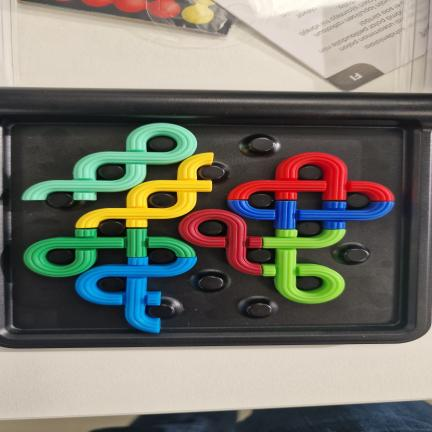A_Yellow: (76, 153, 213, 228)
B_SkyBlue: (76, 257, 197, 332)
C_DarkBlue: (228, 200, 394, 229)
D_Green: (24, 229, 195, 277)
E_Red: (228, 152, 394, 201)
F_Teal: (23, 124, 197, 200)
J_DarkRed: (179, 209, 262, 275)
K_YellowGreen: (262, 229, 345, 304)
board: (0, 90, 430, 348)
hinge: (0, 88, 432, 125)
pin: (146, 297, 183, 319), (148, 136, 176, 152), (97, 164, 125, 180), (47, 192, 74, 208), (47, 249, 74, 265), (296, 221, 322, 237), (198, 165, 225, 180), (98, 277, 125, 292), (149, 193, 175, 208), (99, 221, 125, 236), (150, 249, 176, 264), (198, 276, 224, 291), (249, 137, 274, 152), (198, 220, 223, 235), (344, 248, 369, 263), (298, 165, 322, 180), (346, 193, 370, 208), (247, 248, 271, 263), (248, 194, 273, 208), (297, 276, 322, 290), (247, 303, 272, 317)
